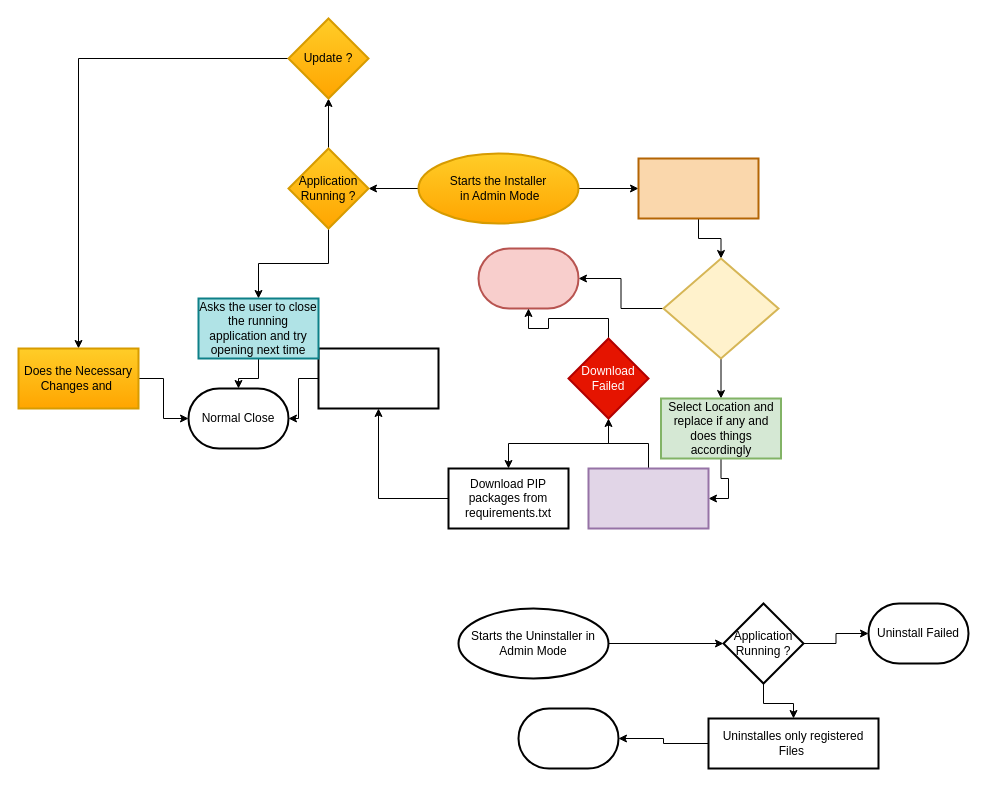
Some shapes in this 986 by 786 pixel diagram are drawn without their labels. Here are the shapes that lost their labels. From the top down, the centre of each, then its label:
At (x=698, y=188): "Welcome Page".
At (x=528, y=278): "Rolls Back, Cancels Setup".
At (x=720, y=308): "License Page".
At (x=378, y=378): "Custom Things".
At (x=648, y=498): "Downloads Python inside Setup".
At (x=568, y=738): "Sucess Uninstall".
